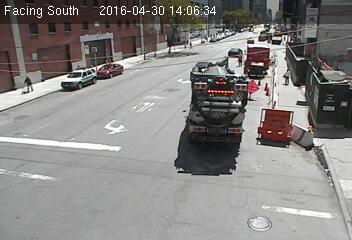neg: (215, 81, 240, 115), (69, 93, 92, 124), (180, 56, 200, 83)
pos: (278, 66, 294, 87), (21, 73, 34, 91)
